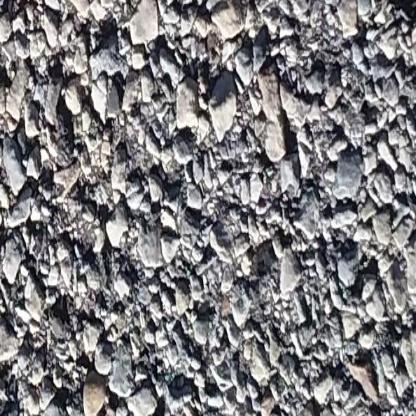Cracks: (361, 0, 416, 25)
